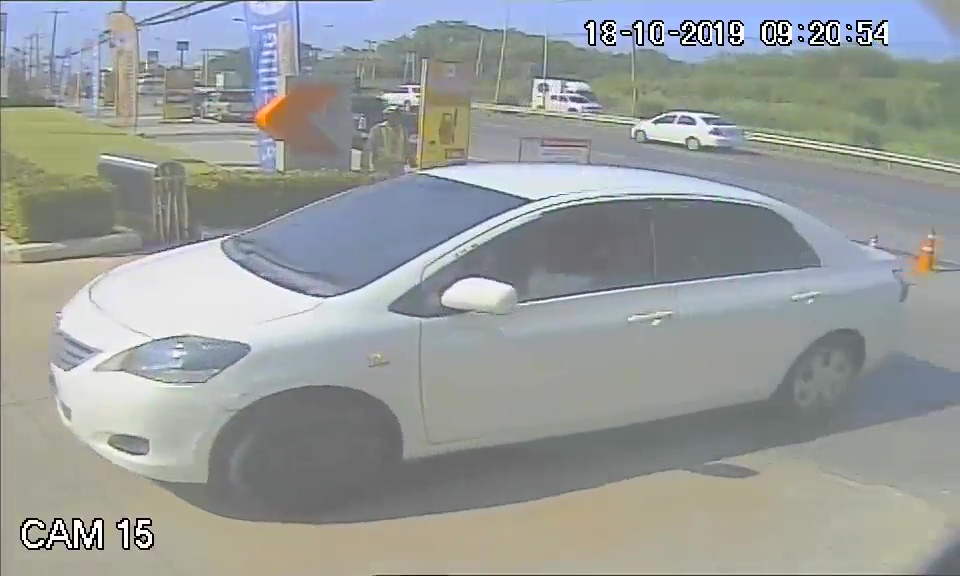sedan: (51, 161, 911, 498)
